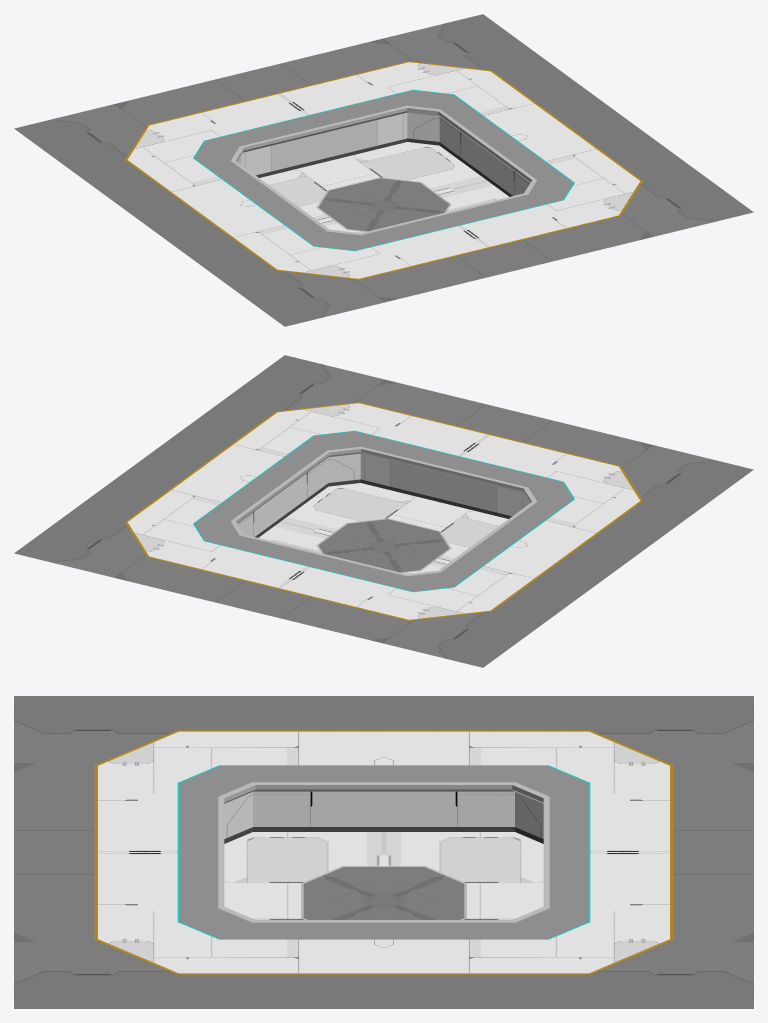
Rendered from SM_Floor_Interior_18x18_Lower_1.fbx.
The picture shows the model from 3 angles, top to bottom: view 1: azimuth 30°, elevation 25°; view 2: azimuth 150°, elevation 25°; view 3: azimuth 270°, elevation 25°; orthographic projection. The views are drawn at different scales.
Visible parts, largest first — view 1: SM_Floor_Interior_18x18_Lower_1; view 2: SM_Floor_Interior_18x18_Lower_1; view 3: SM_Floor_Interior_18x18_Lower_1.
Part boxes in pixels (box(x1,y1,x2,y2)): SM_Floor_Interior_18x18_Lower_1: box(14, 14, 753, 326); SM_Floor_Interior_18x18_Lower_1: box(14, 355, 753, 667); SM_Floor_Interior_18x18_Lower_1: box(14, 696, 753, 1008).
Bounding box in the file's own units: 1800 × 130 × 1800.
